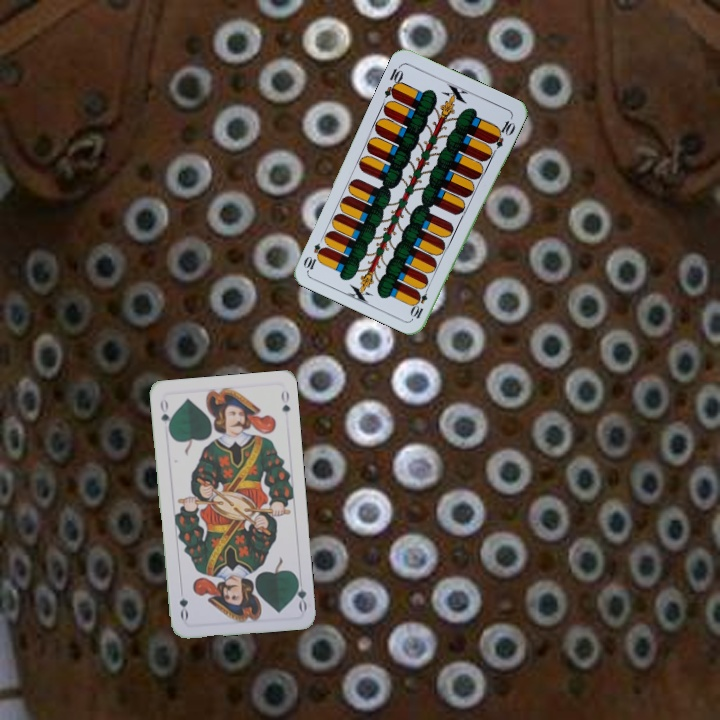E10: (380, 61, 406, 101), (408, 281, 432, 321)
GO: (290, 573, 309, 613), (156, 395, 174, 435)
